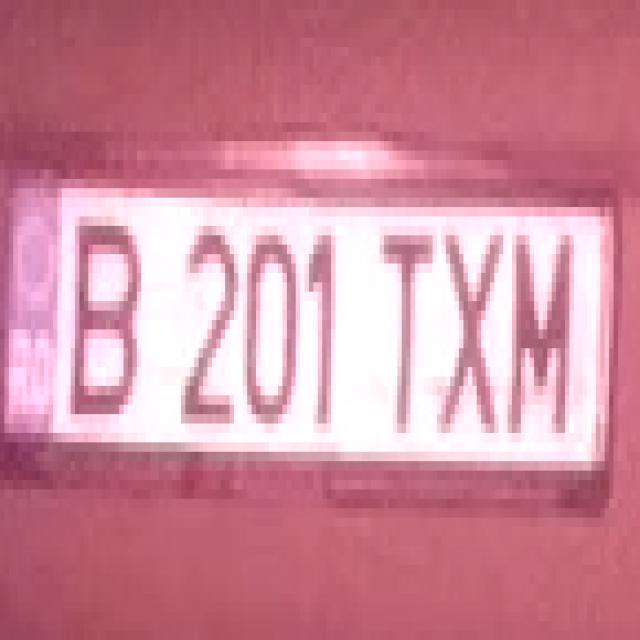EU: (0, 181, 625, 516)
Romanie: (3, 181, 62, 433)
